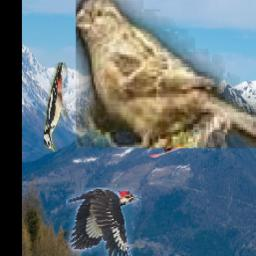Sparrow: (76, 0, 256, 148)
Woodpecker: (66, 189, 141, 256), (43, 64, 70, 153)
